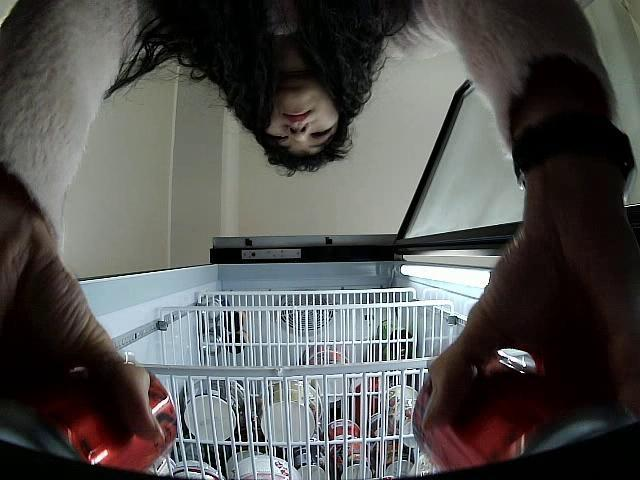11_cocaColaZero: (411, 349, 640, 468), (0, 366, 179, 471)
